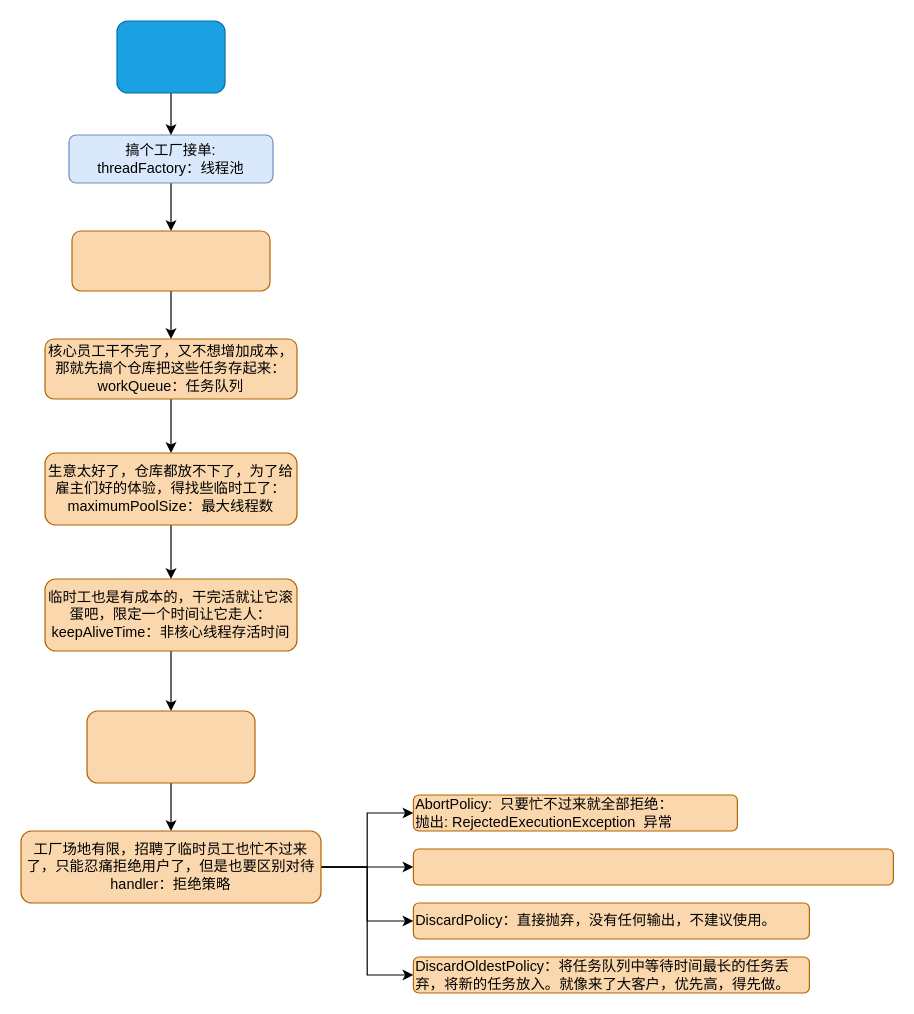
This 914x1014 diagram has some shape labels left out. The shapes that lost their labels are listed below. From the top down, each one's centre as x and y in pixels, then its label:
At point (170, 56): "task".
At point (170, 260): "指定长期正式员工数量corePoolSize：核心线程数".
At point (170, 746): "走的时间必须精准，多一分就得多花一分钱： unit：计时单位".
At point (652, 866): "CallerRunsPolicy：谁拒绝这个任务谁就要去负责执行这个任务(在任务来临的时候)".
